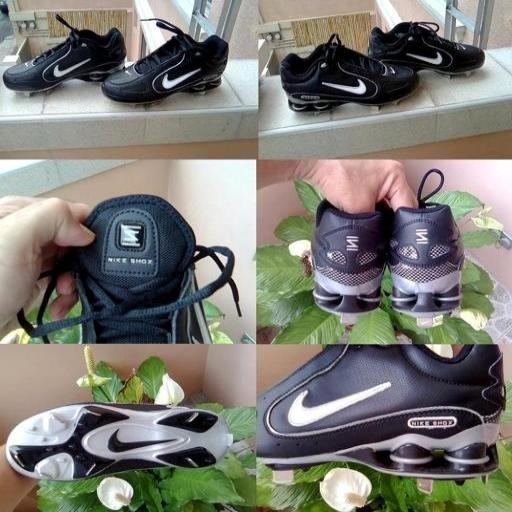shoe: (257, 345, 504, 479), (18, 195, 239, 343), (6, 403, 233, 481), (388, 169, 464, 327), (102, 19, 229, 104), (280, 34, 418, 112), (3, 14, 126, 94), (311, 200, 388, 324), (369, 22, 485, 74)
